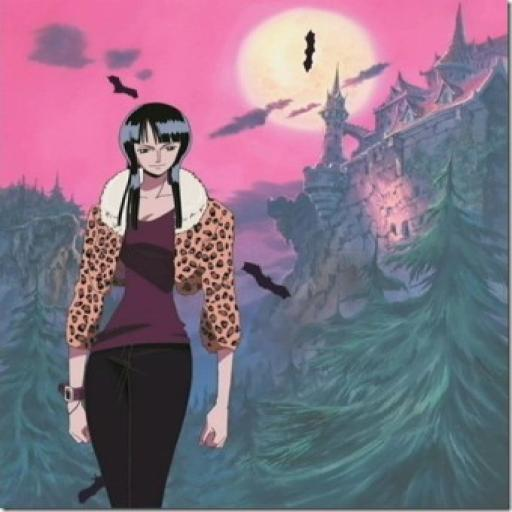NicoRobin: (108, 100, 216, 210)
